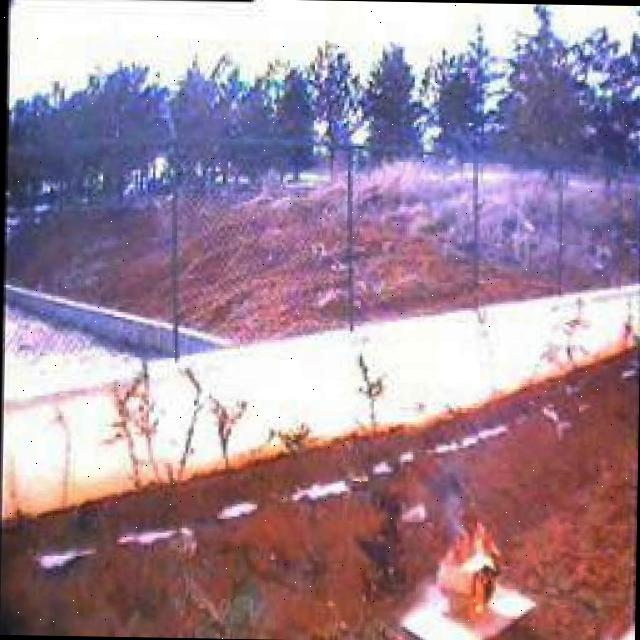fire: (432, 478, 503, 634)
